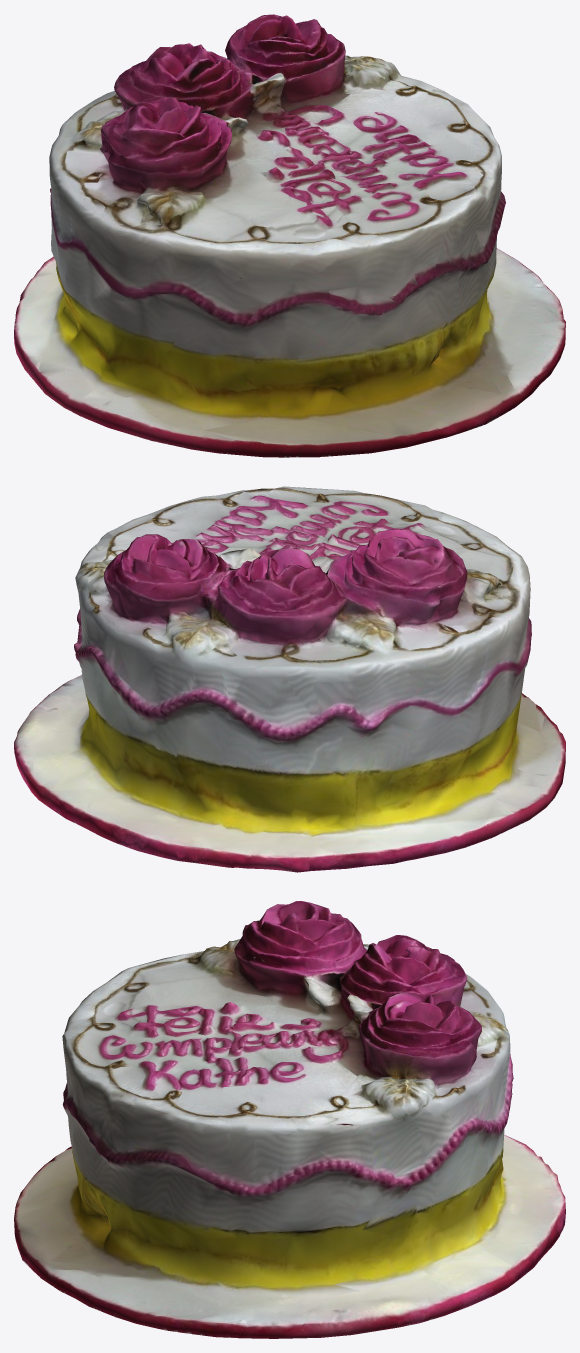
Rendered from pastel4.glb.
3 renders of one model, top to bottom at view 1: azimuth 30°, elevation 25°; view 2: azimuth 150°, elevation 25°; view 3: azimuth 270°, elevation 25°, orthographic.
Visible parts, largest first — view 1: Mesh_0; view 2: Mesh_0; view 3: Mesh_0.
Boxes of the visible parts, box(x1,y1,x2,y2) form: Mesh_0: box(14, 14, 565, 457); Mesh_0: box(14, 486, 565, 872); Mesh_0: box(14, 901, 565, 1338).
Size of the model in its own units: 1.02 by 0.5345 by 1.01.
1 material, 1 textured.
